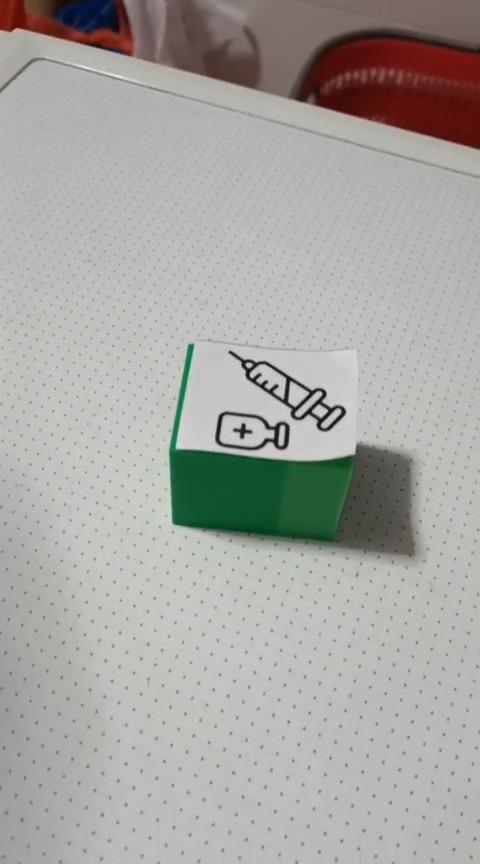antiseptic cream: (168, 338, 359, 542)
